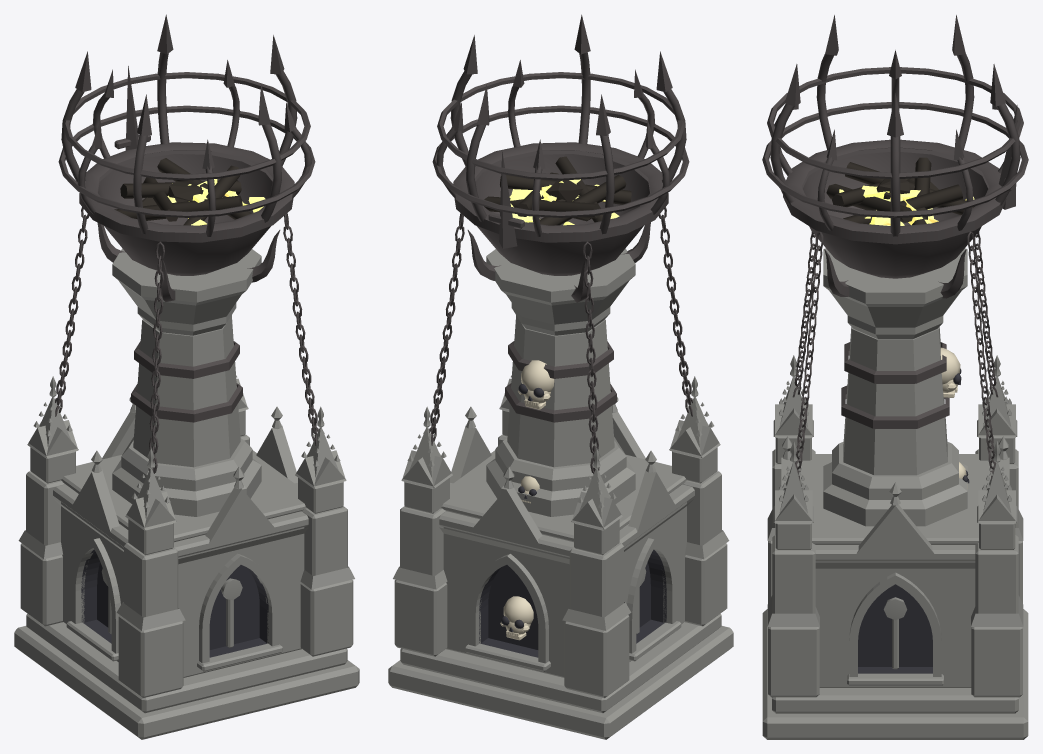
Rendered from tower_pyre_2.glb.
3 renders of one model, left to right at view 1: azimuth 30°, elevation 25°; view 2: azimuth 150°, elevation 25°; view 3: azimuth 270°, elevation 25°, orthographic. The views are drawn at different scales.
Parts seen in each view (by area): view 1: tower; view 2: tower; view 3: tower.
Part boxes in pixels (box(x1,y1,x2,y2)): tower: box(14, 14, 359, 739); tower: box(388, 14, 733, 739); tower: box(762, 15, 1028, 739).
Size of the model in its own units: 1.7 by 4.49 by 1.7.
